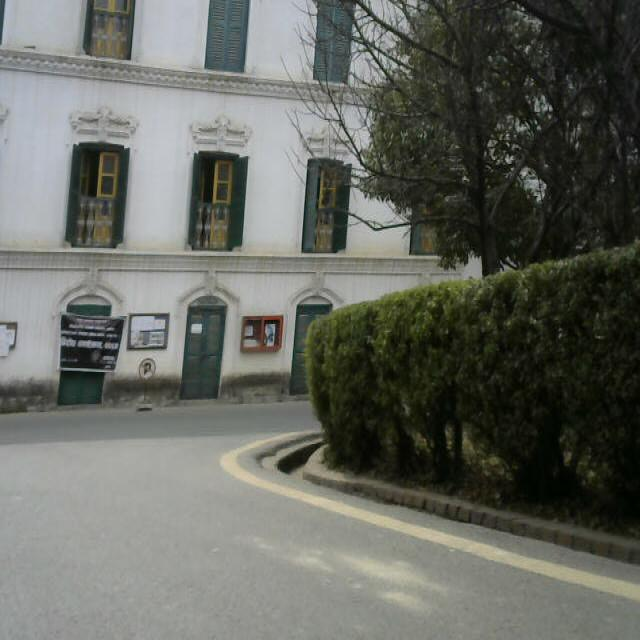Buildings: (0, 0, 330, 401)
NoParking: (135, 354, 160, 410)
Road: (0, 420, 640, 640)
trees: (341, 4, 640, 494)
